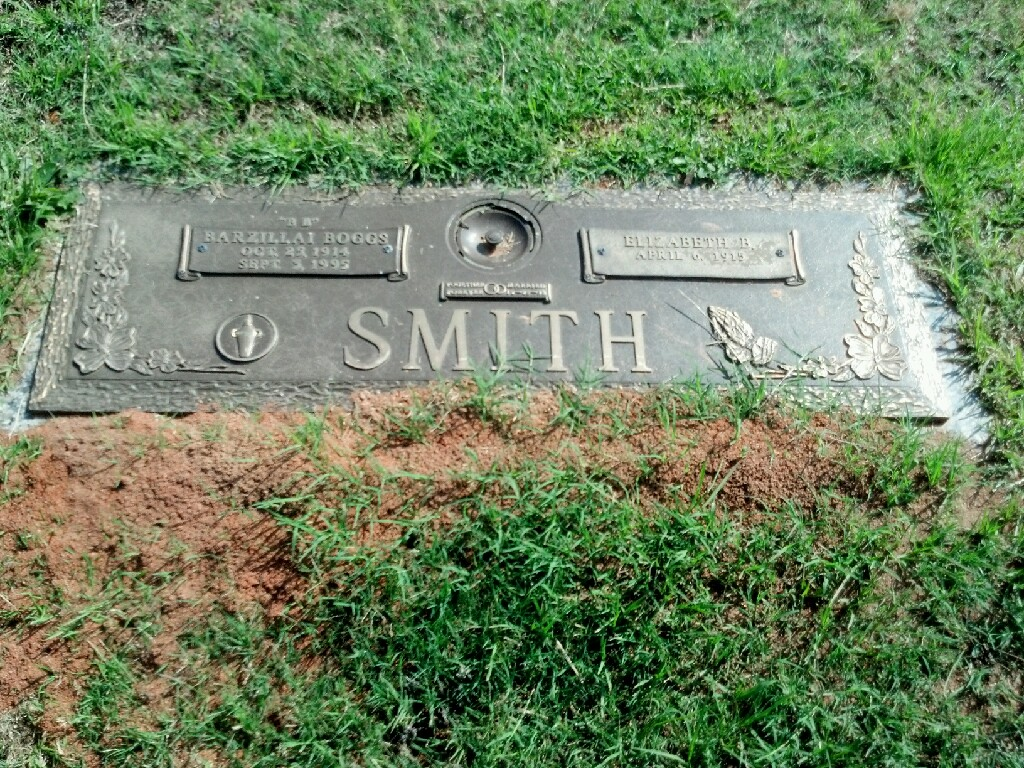flat: (14, 159, 967, 450)
